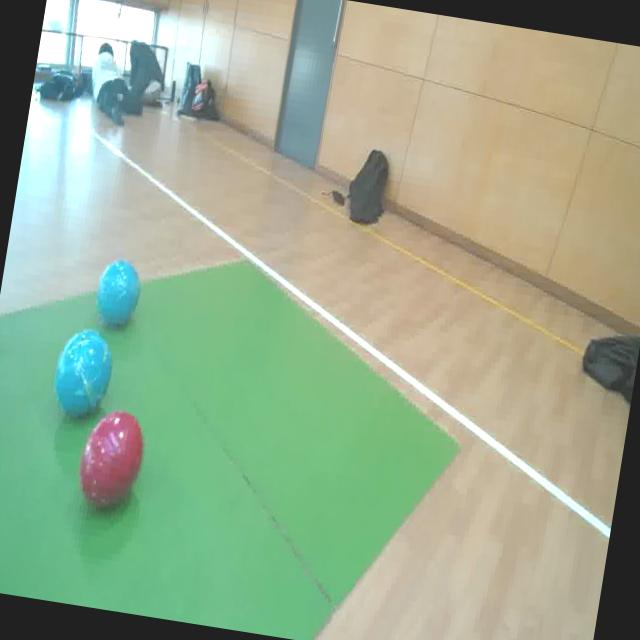blue_ball: (50, 324, 118, 422), (92, 254, 145, 334)
red_ball: (73, 401, 152, 520)
